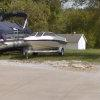Boat: (20, 29, 74, 61)
